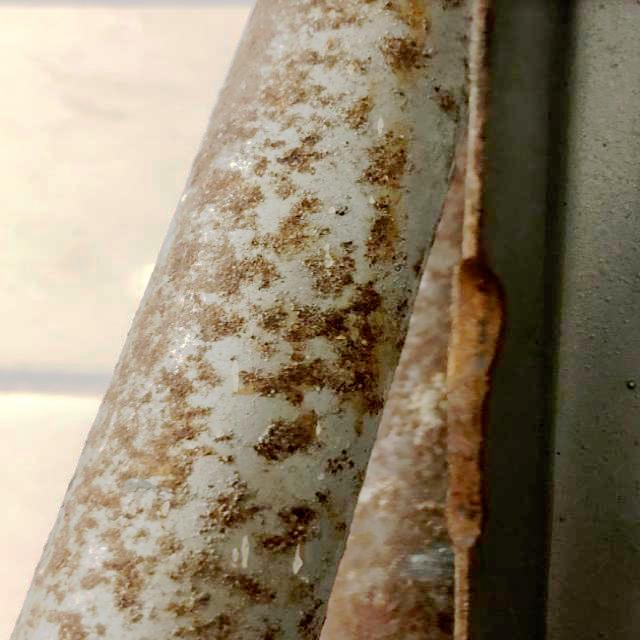Corrosion: (5, 0, 519, 640)
